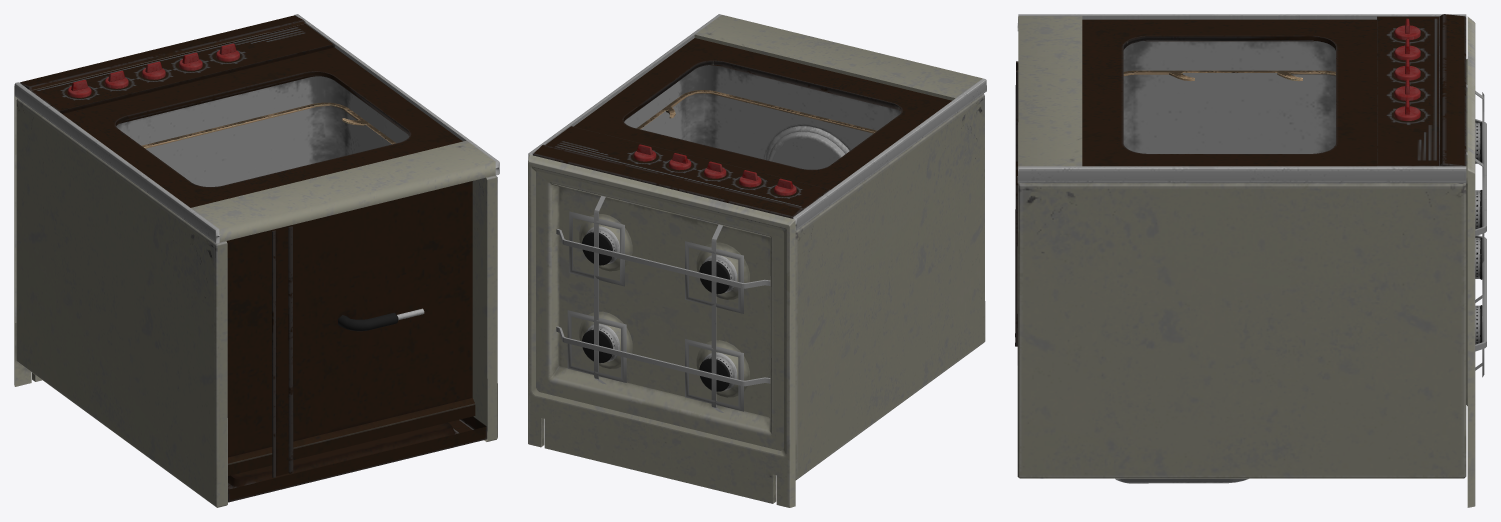
File: SM_Stove.fbx
3 renders of one model, left to right at view 1: azimuth 30°, elevation 25°; view 2: azimuth 150°, elevation 25°; view 3: azimuth 270°, elevation 25°, orthographic. The views are drawn at different scales.
Parts seen in each view (by area): view 1: SM_Stove; view 2: SM_Stove; view 3: SM_Stove.
Boxes of the visible parts, bbox=[...] form: SM_Stove: bbox=[14, 14, 499, 507]; SM_Stove: bbox=[528, 14, 986, 507]; SM_Stove: bbox=[1015, 14, 1486, 507].
Size of the model in its own units: 83.24 by 90.87 by 107.
